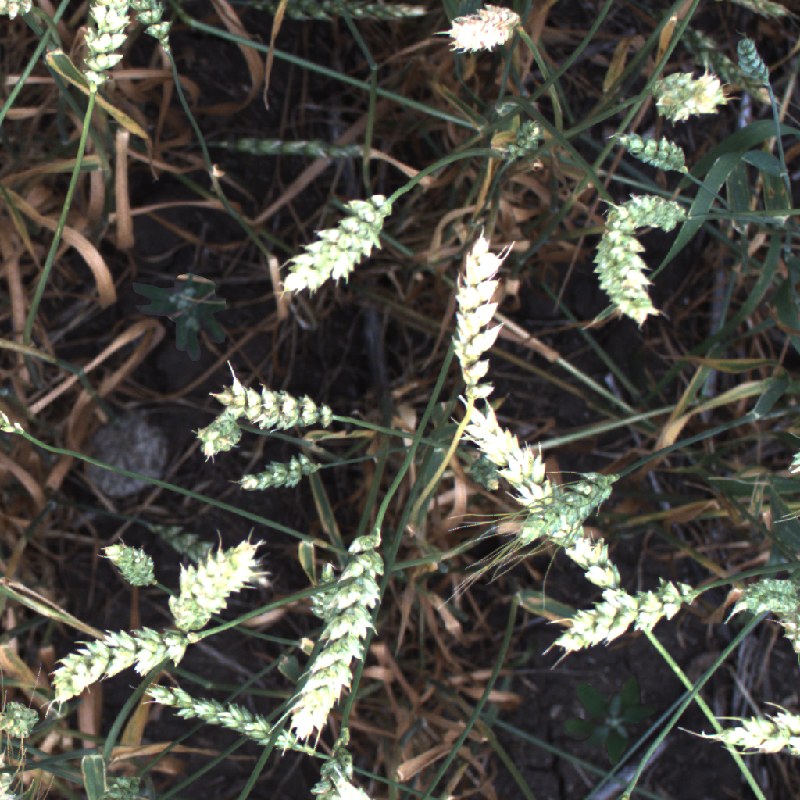spikelet: (273, 518, 400, 748), (461, 407, 620, 589), (500, 463, 636, 554), (284, 186, 396, 296), (146, 684, 309, 757), (550, 581, 704, 654), (46, 625, 183, 703), (164, 533, 264, 630), (453, 235, 504, 415), (594, 220, 660, 324), (676, 703, 800, 758), (70, 1, 130, 96), (214, 382, 332, 429), (438, 5, 523, 58), (652, 67, 726, 122), (609, 127, 691, 174), (103, 539, 167, 596), (310, 732, 362, 797), (726, 573, 797, 619), (239, 453, 319, 489), (611, 194, 687, 230), (126, 1, 175, 56), (736, 33, 773, 98), (499, 117, 546, 160), (307, 560, 339, 619), (200, 412, 237, 454), (1, 696, 35, 737), (467, 455, 494, 484)
weed: (548, 655, 673, 778), (131, 272, 226, 361)
